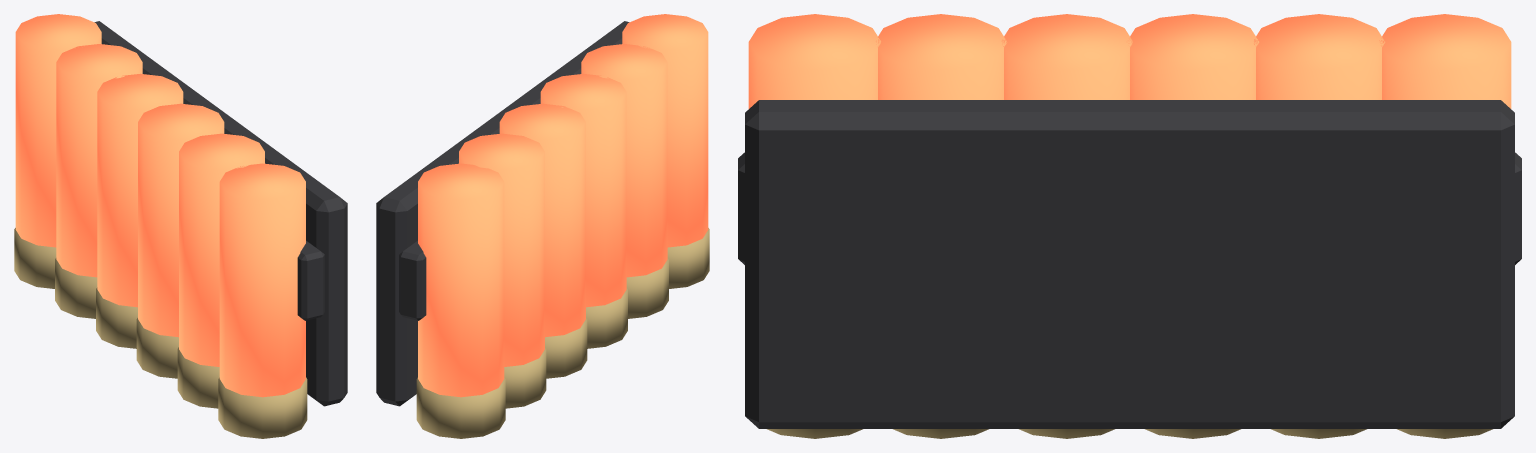
File: part_nosic.glb
3 renders of one model, left to right at view 1: azimuth 30°, elevation 25°; view 2: azimuth 150°, elevation 25°; view 3: azimuth 270°, elevation 25°, orthographic. The views are drawn at different scales.
Parts seen in each view (by area): view 1: Nosic; view 2: Nosic; view 3: Nosic.
Part boxes in pixels (<box>): Nosic: <box>14,14,347,438</box>; Nosic: <box>376,14,709,438</box>; Nosic: <box>738,14,1521,438</box>.
Bounding box in the file's own units: 0.0268 × 0.058 × 0.112.
